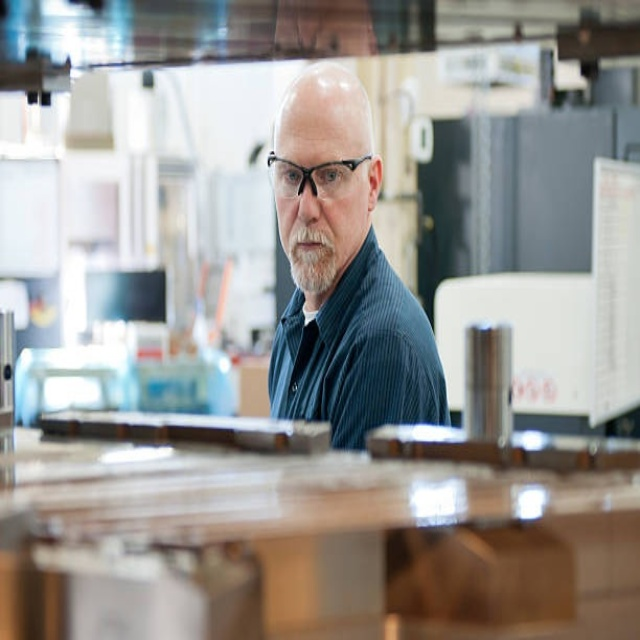Gafas: (267, 153, 374, 201)
Sin_mascara: (289, 230, 328, 282)
